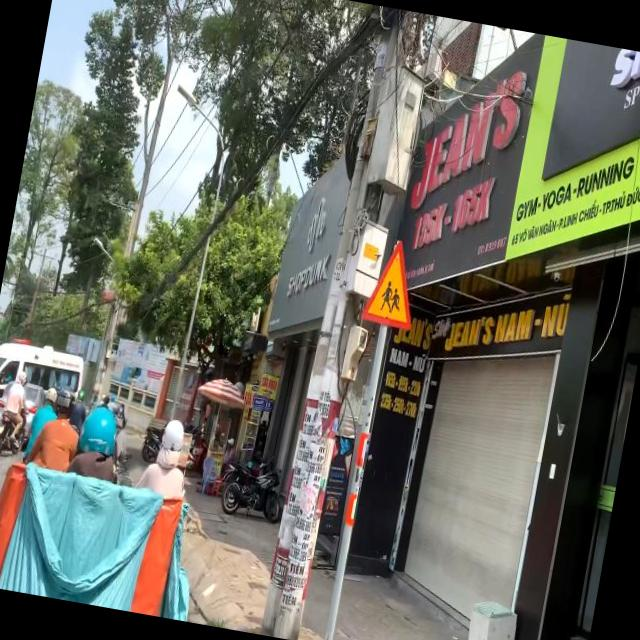W-225: (360, 232, 426, 328)
